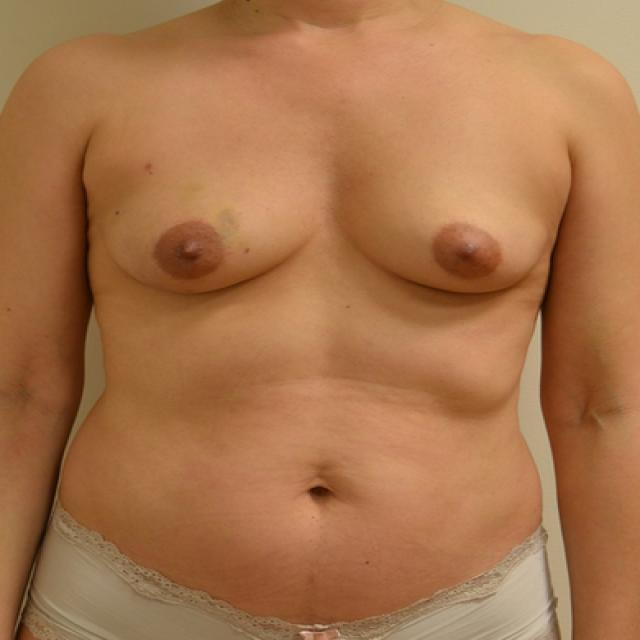Seno herido: (89, 154, 325, 306)
Seno ileso: (332, 156, 565, 306)
